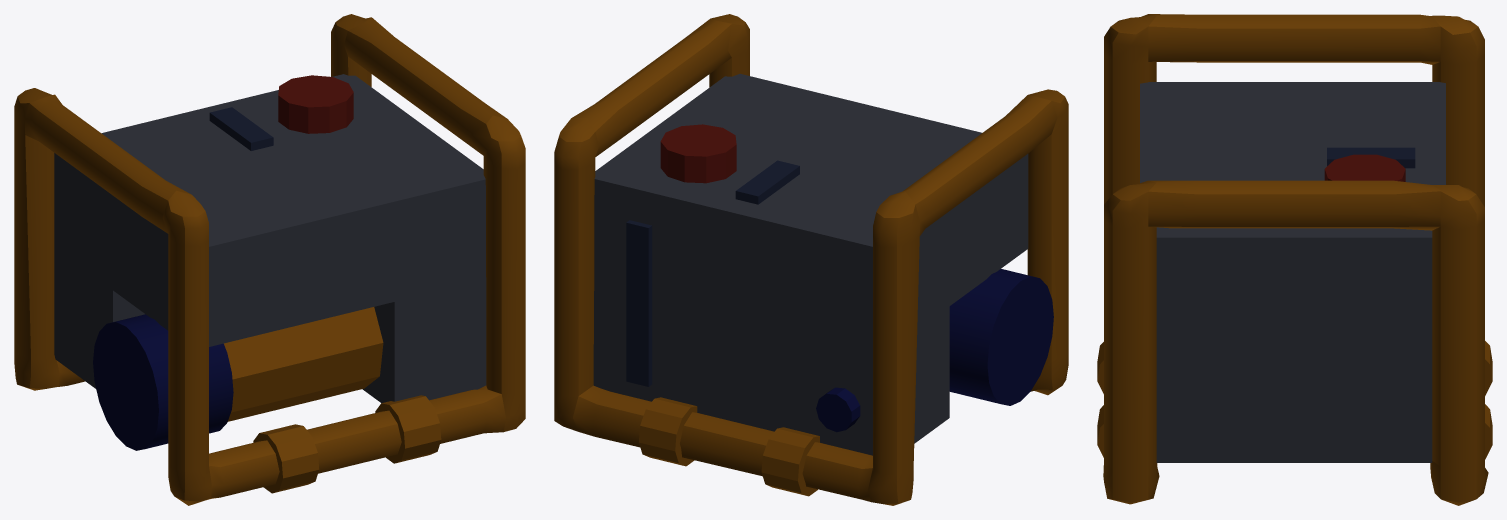
File: generatormesh.fbx
3 renders of one model, left to right at view 1: azimuth 30°, elevation 25°; view 2: azimuth 150°, elevation 25°; view 3: azimuth 270°, elevation 25°, orthographic. The views are drawn at different scales.
Visible parts, largest first — view 1: pCylinder10; view 2: pCylinder10; view 3: pCylinder10.
Part boxes in pixels (<box>): pCylinder10: <box>14,14,525,505</box>; pCylinder10: <box>554,14,1068,505</box>; pCylinder10: <box>1097,14,1492,505</box>.
Bounding box in the file's own units: 1.33 × 1.11 × 1.21.
